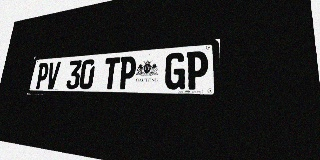0: (78, 59, 96, 89)
3: (66, 60, 82, 89)
G: (164, 52, 186, 90)
P: (185, 50, 208, 90), (118, 56, 137, 89), (35, 62, 50, 89)
T: (102, 57, 120, 89)
V: (45, 62, 61, 89)
